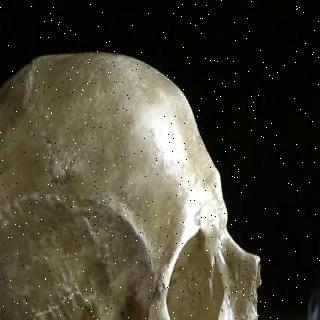smoke: (308, 255, 320, 320)
